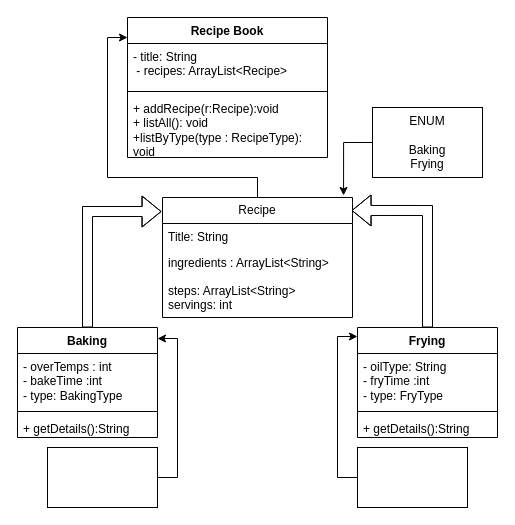
Image size: 515x525. Some labels were removed from this diagram. The shapes that lost their labels are listed below. From the top down, each one's centre as x and y in pixels, then its label:
point 102,477: ENUM Egg Eggless
point 412,477: ENUM Deepfry Panfry
